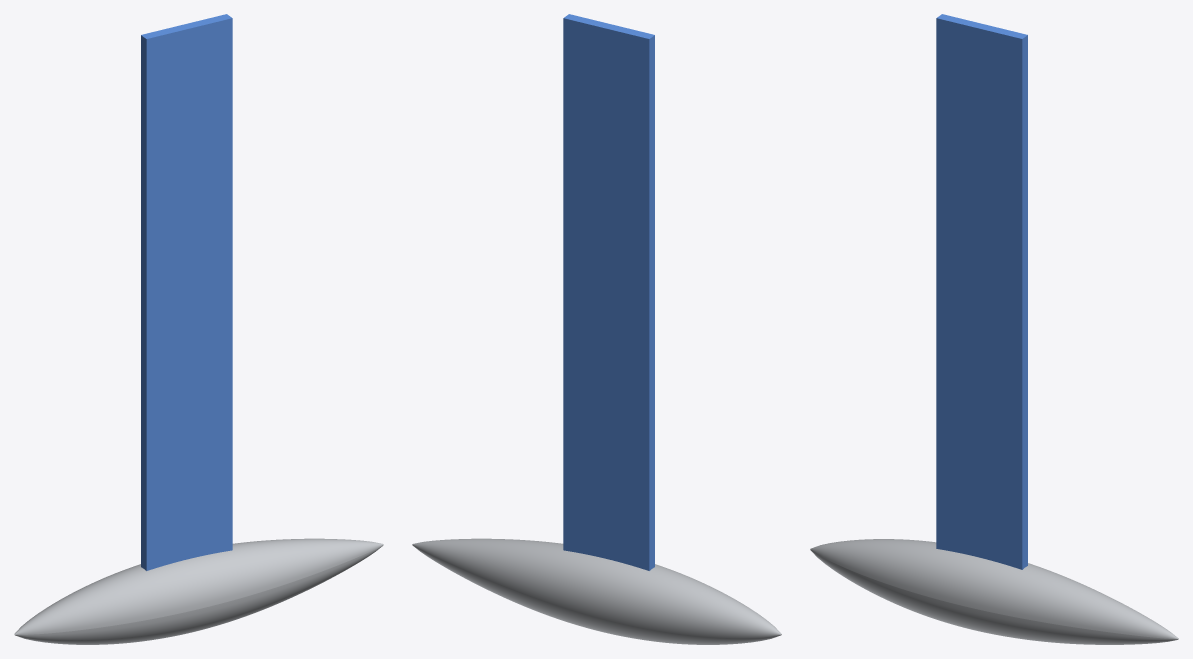
3 renders of one model, left to right at view 1: azimuth 30°, elevation 25°; view 2: azimuth 150°, elevation 25°; view 3: azimuth 330°, elevation 25°, orthographic.
Size of the model in its own units: 0.3 by 0.4681 by 0.0563.
